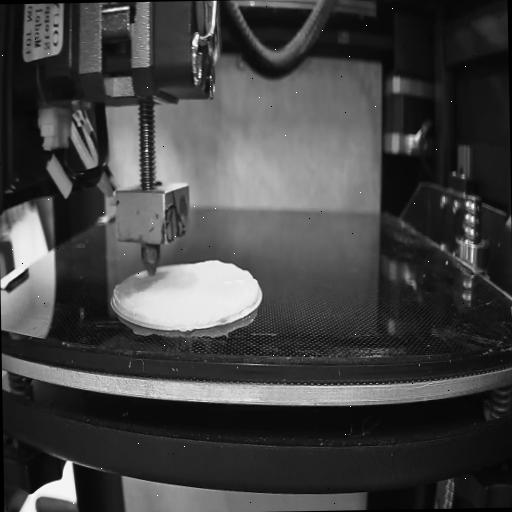over_extrusion: (206, 254, 260, 306), (113, 289, 139, 317)
